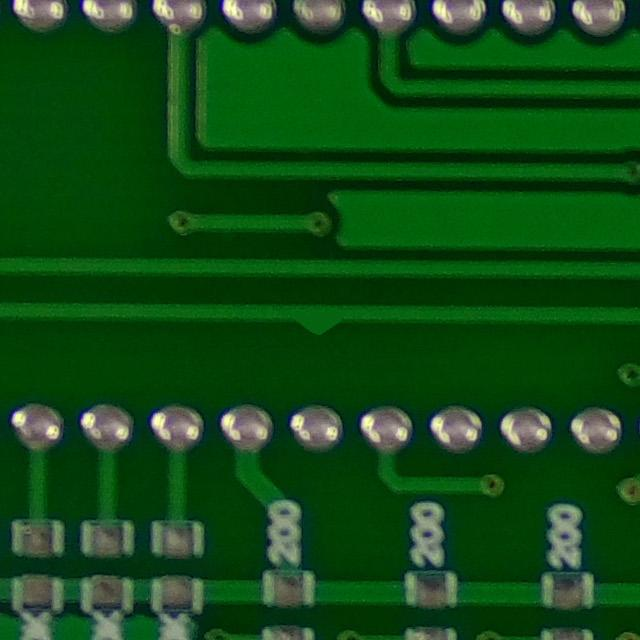spur: (282, 282, 358, 359)
